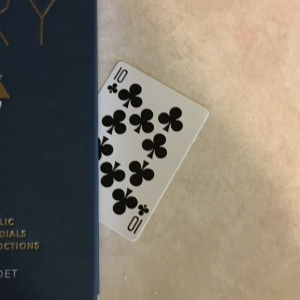card: (92, 59, 208, 241)
